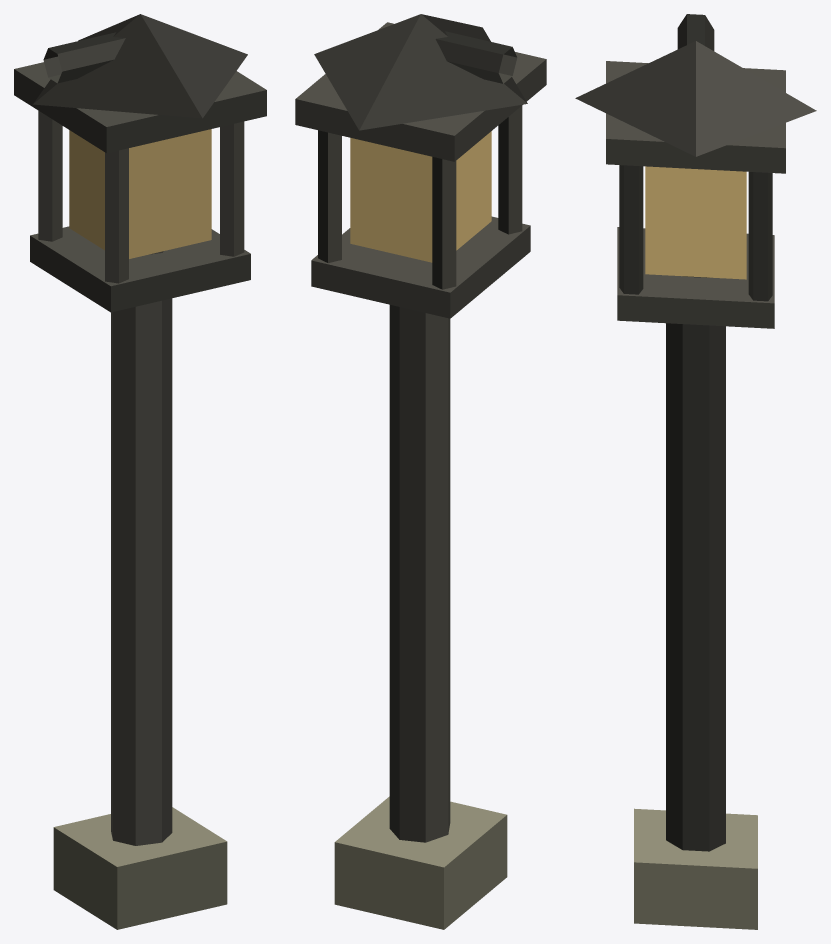
The picture shows the model from 3 angles, left to right: view 1: azimuth 30°, elevation 25°; view 2: azimuth 150°, elevation 25°; view 3: azimuth 270°, elevation 25°; orthographic projection. The views are drawn at different scales.
Parts seen in each view (by area): view 1: 086be8254aee8d3df6e12ad486fd0c5008bb6bbef5b0c8474f3a07c8708b; view 2: 086be8254aee8d3df6e12ad486fd0c5008bb6bbef5b0c8474f3a07c8708b; view 3: 086be8254aee8d3df6e12ad486fd0c5008bb6bbef5b0c8474f3a07c8708b.
Boxes of the visible parts, x1,y1,x2,y2 form: 086be8254aee8d3df6e12ad486fd0c5008bb6bbef5b0c8474f3a07c8708b: (14, 14, 266, 929); 086be8254aee8d3df6e12ad486fd0c5008bb6bbef5b0c8474f3a07c8708b: (295, 14, 546, 929); 086be8254aee8d3df6e12ad486fd0c5008bb6bbef5b0c8474f3a07c8708b: (575, 14, 816, 929).
Bounding box in the file's own units: 0.86 × 3.39 × 0.86.
2 materials, 1 textured.
